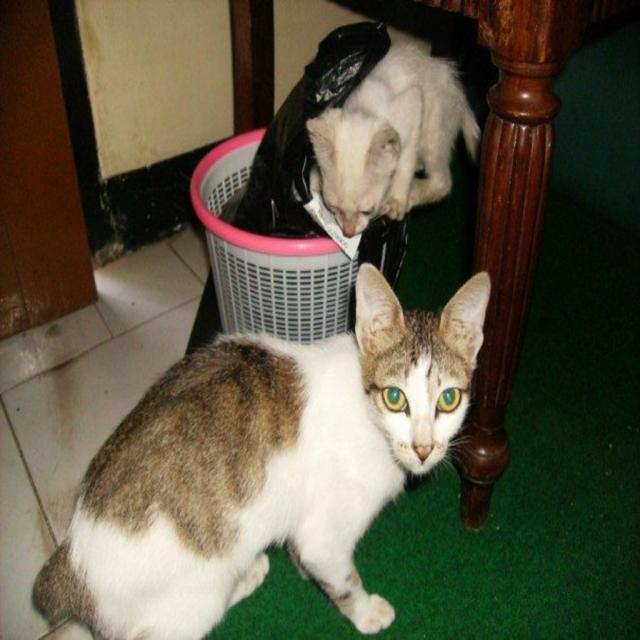Cat: (27, 258, 493, 636), (302, 34, 484, 242)
